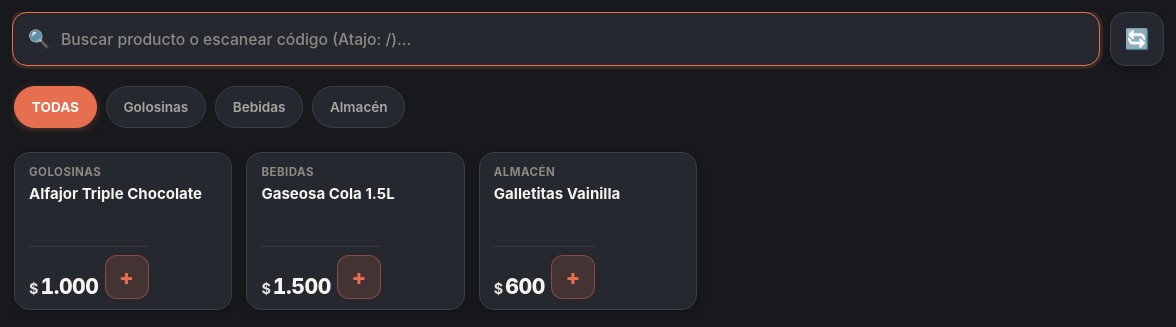
Ajuste Final del Buscador de Productos (Prioridad y Resaltado en Nombre) › quita todos los resaltados cuando se borra el texto de búsqueda
In the field with test id "search-input": (556, 39) [12,12,1100,66], type "choco"
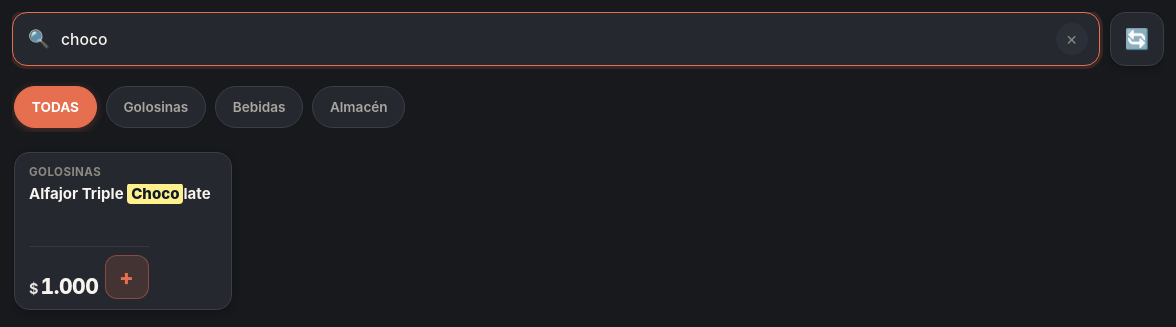
Expected: the text "Choco" is shown, [127,184,184,204]
// Borrar texto de búsqueda
Clear the field with test id "search-input": (556, 39) [12,12,1100,66]
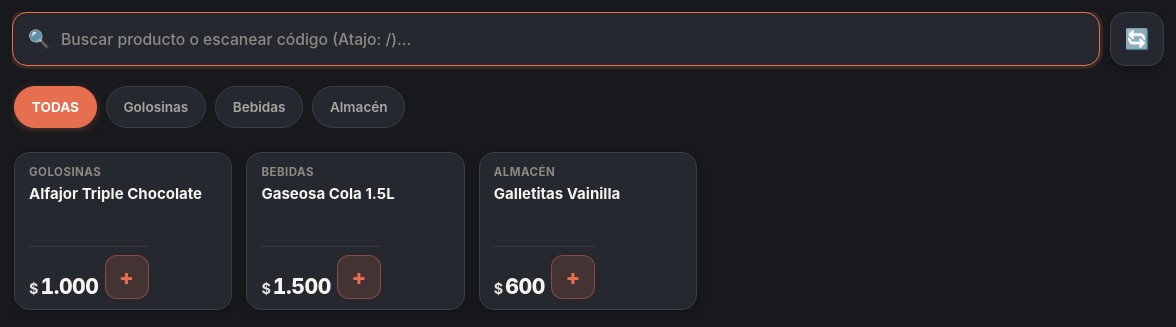
Expected: the text with class "search-highlight" is gone
Expected: the button with test id "prod-card-2" is shown, [246,152,465,310]
Expected: the button with test id "prod-card-3" is shown, [479,152,697,310]
